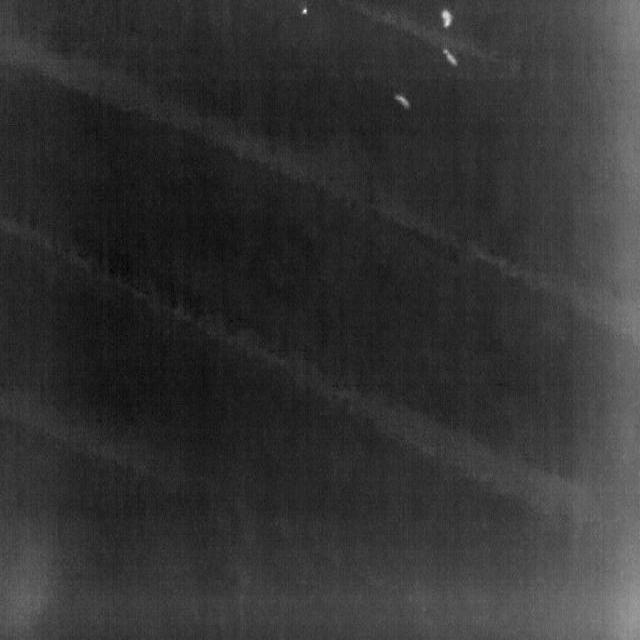deer: (443, 48, 459, 68), (441, 8, 455, 28), (394, 94, 411, 110), (300, 6, 309, 16)
